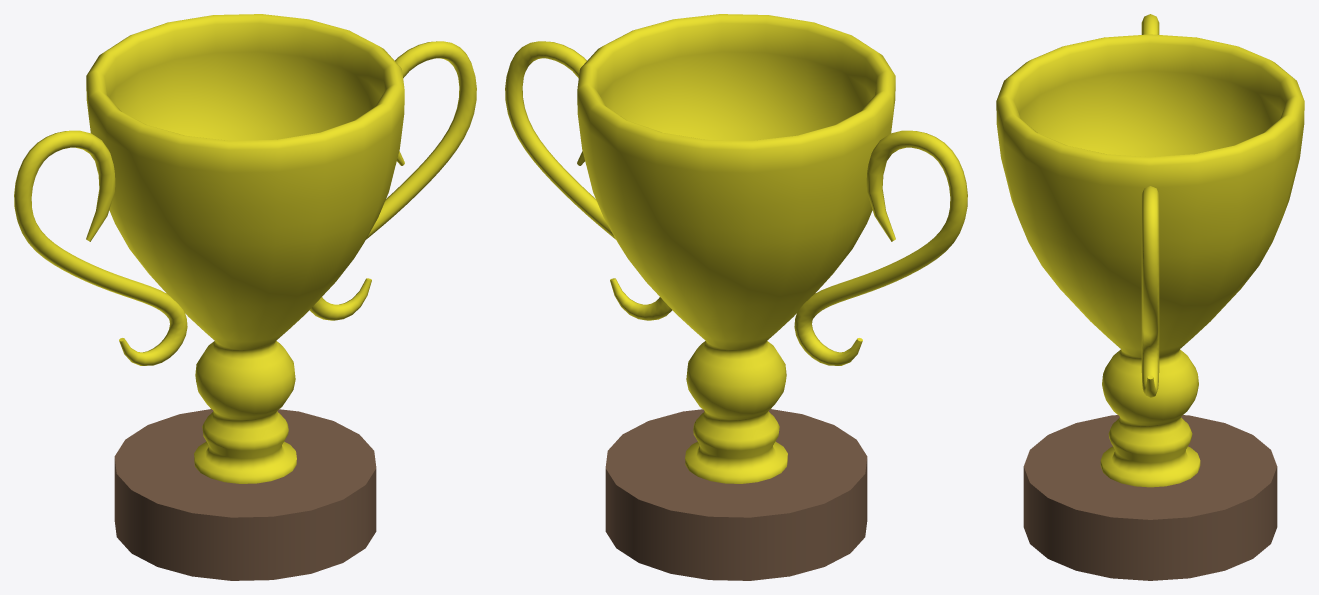
Rendered from cup.fbx.
The picture shows the model from 3 angles, left to right: view 1: azimuth 30°, elevation 25°; view 2: azimuth 150°, elevation 25°; view 3: azimuth 270°, elevation 25°; orthographic projection. The views are drawn at different scales.
Parts seen in each view (by area): view 1: Cylinder; view 2: Cylinder; view 3: Cylinder.
Boxes of the visible parts, bbox=[...] form: Cylinder: bbox=[14, 14, 476, 580]; Cylinder: bbox=[505, 14, 967, 580]; Cylinder: bbox=[996, 14, 1304, 580].
Size of the model in its own units: 404 by 376 by 243.
